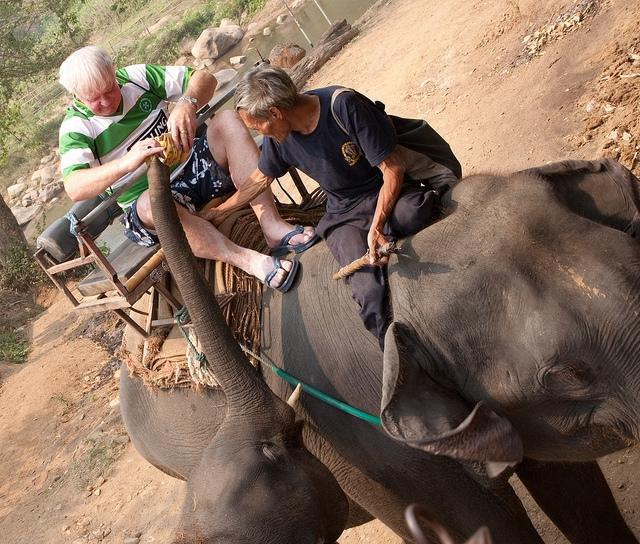banana: (166, 134, 178, 168), (160, 135, 172, 165)
